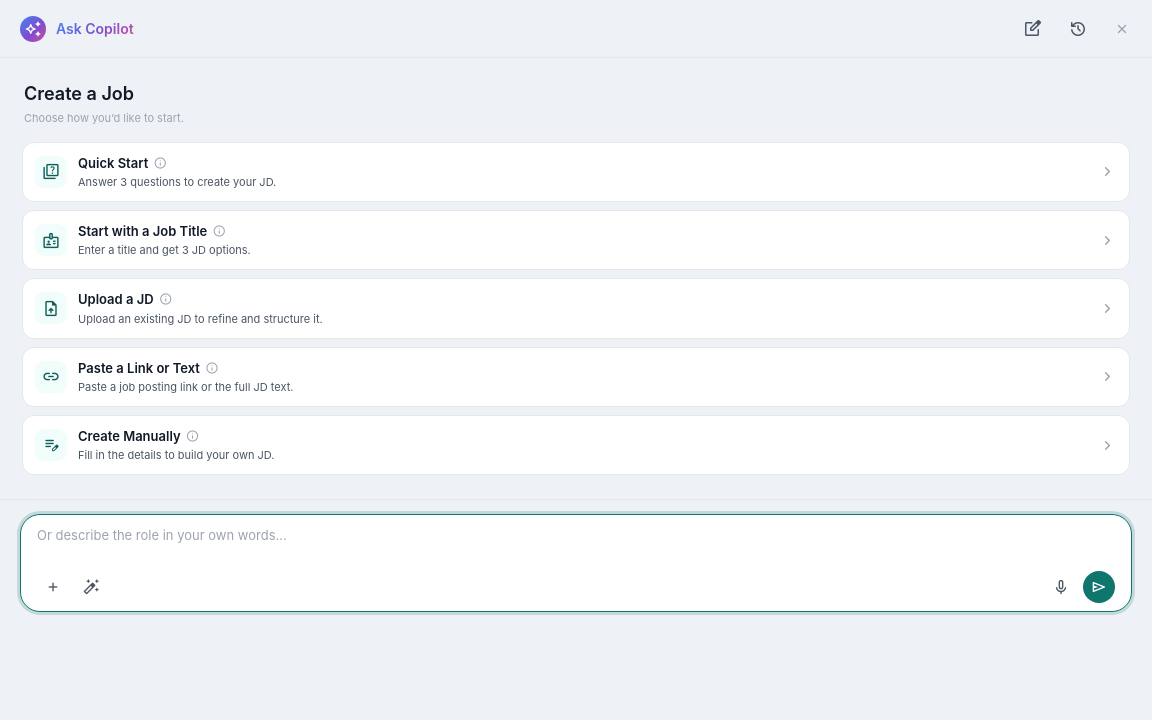
it: Paste a link that cannot be read (#64) › #84: the draft identifies its source for https://careers.example.com/position/42
The width and height of the screenshot is (1152, 720).
Click the text "Paste a Link or Text" at (150, 368), box [78, 359, 221, 377]
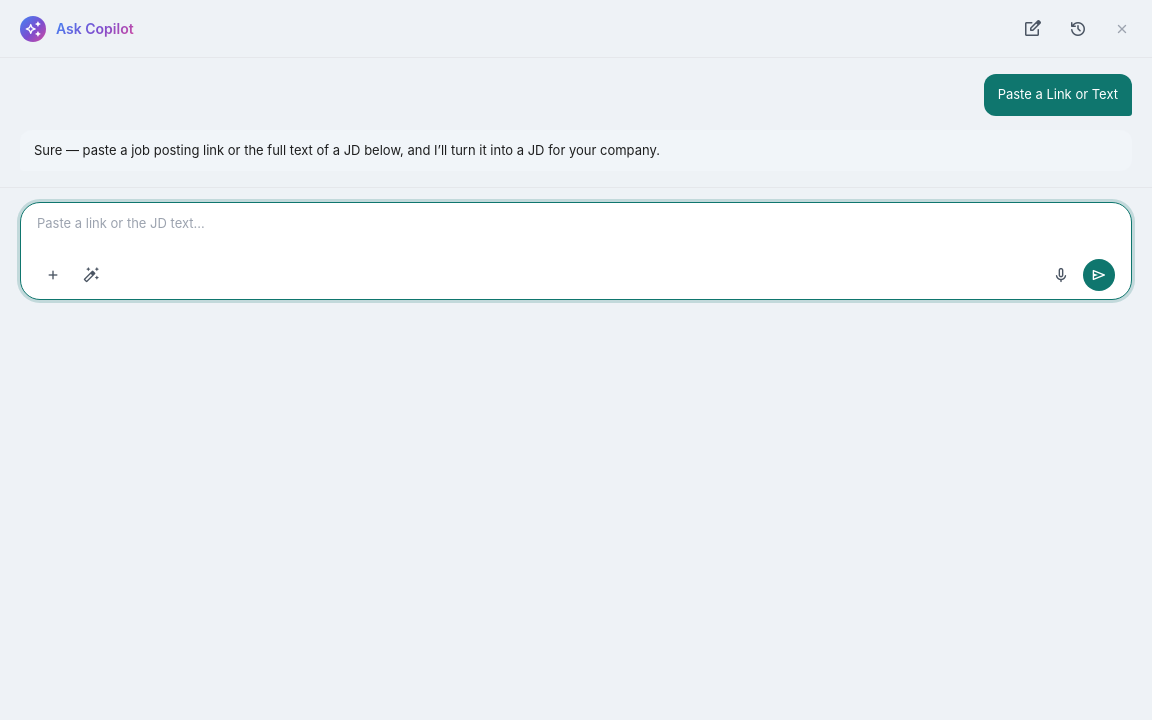
Type "https://careers.example.com/position/42" into the text box with placeholder "Paste a link or the JD text…" at (576, 234), box [37, 214, 1115, 253]
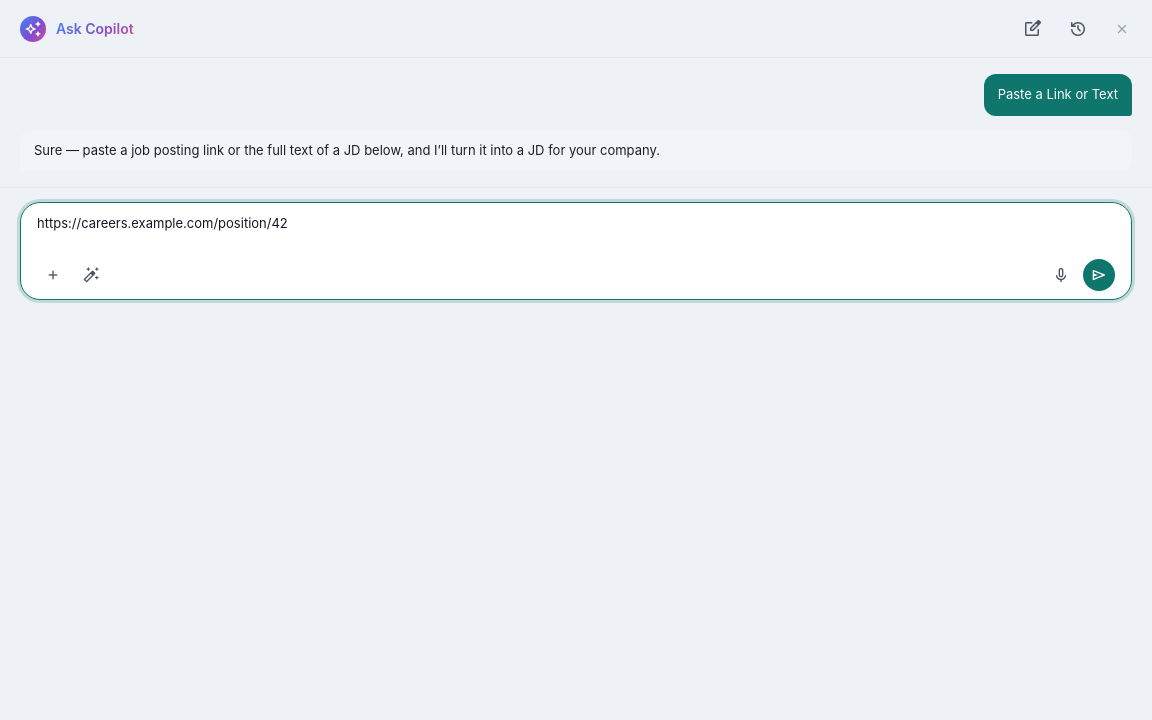
Click the button named "Send" at (1099, 275), box [1083, 259, 1115, 291]
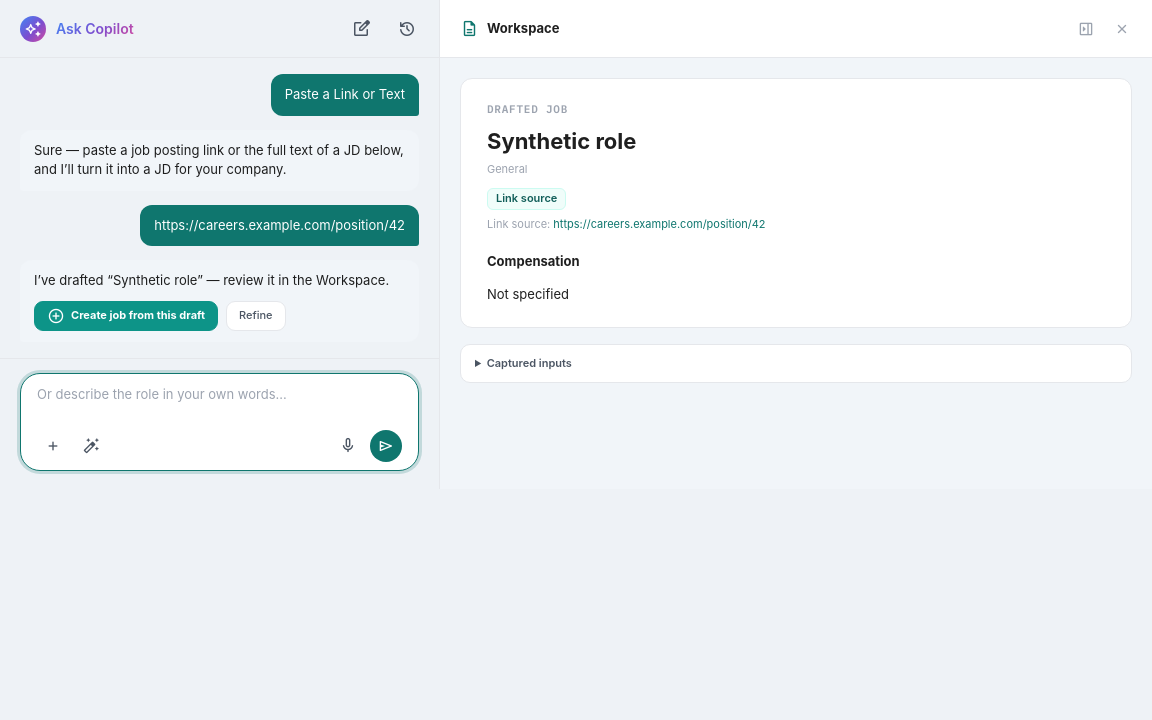
Expected: the element with test id "draft-source" shows "Link source", [487, 217, 547, 231]
